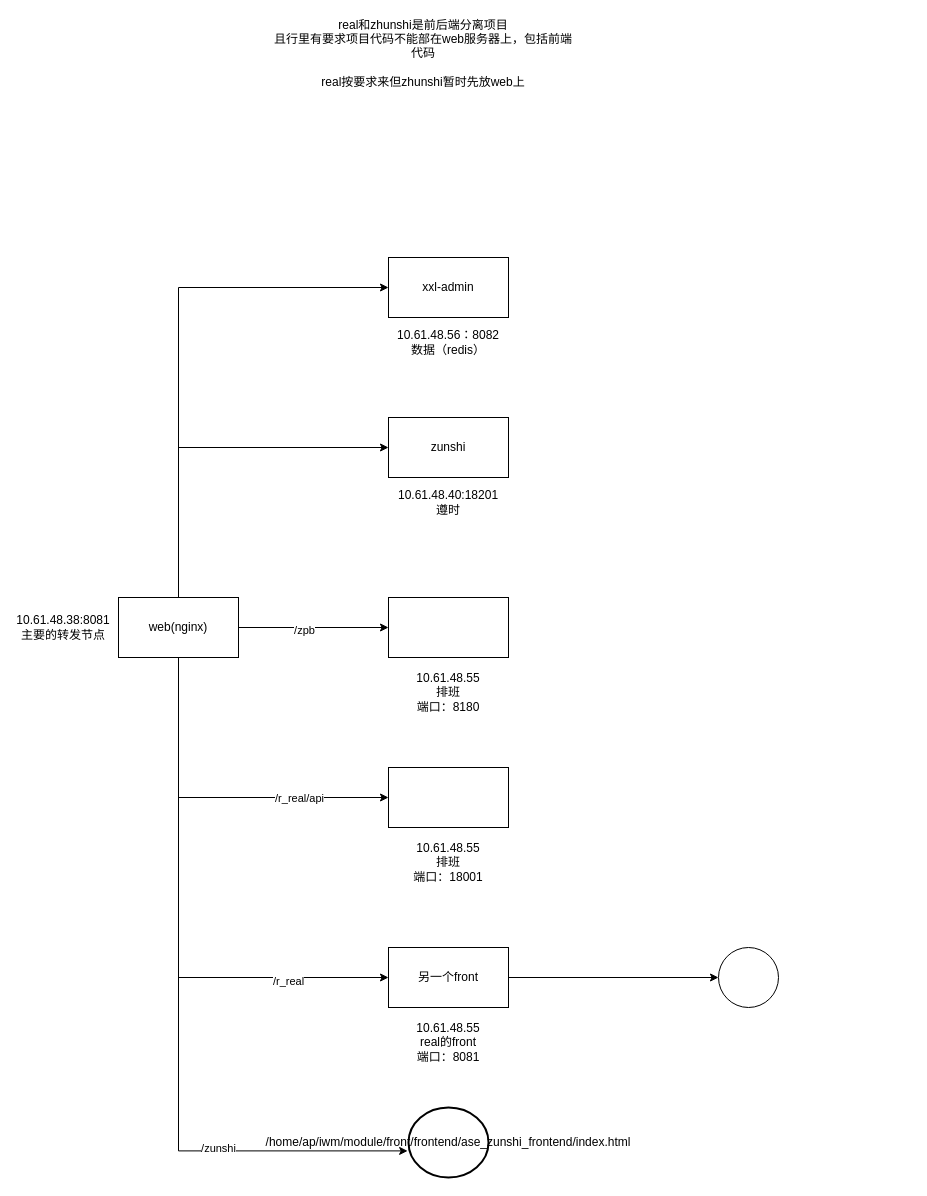
The diagram is 927 pixels wide and 1196 high, and some of its shapes have lost their labels. Here are the shapes that lost their labels. From the top down, the centre of each, then its label:
At [448,627]: "zpb".
At [448,797]: "real后端".
At [748,977]: "/home/ap/iwm/module/frontend/ase_real_frontend/index.html".
